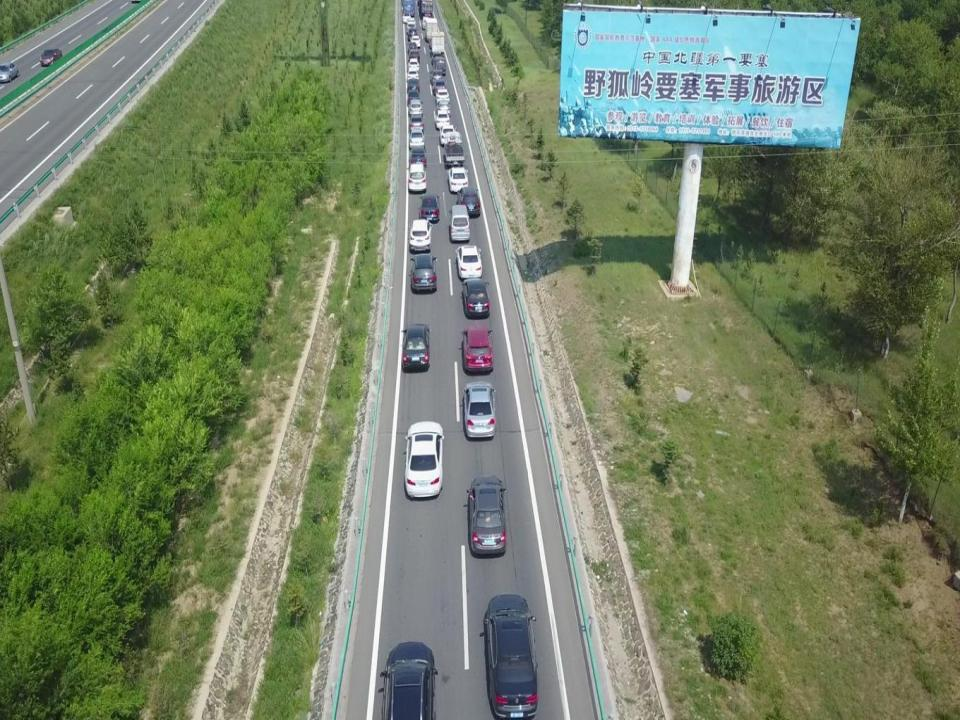bus: (402, 0, 416, 17)
car: (482, 593, 538, 707), (380, 642, 438, 709), (466, 474, 506, 556), (404, 421, 446, 498), (463, 380, 496, 440), (460, 324, 495, 373), (400, 323, 432, 369), (463, 277, 492, 318), (410, 253, 438, 293), (456, 244, 483, 280), (408, 219, 433, 253), (456, 187, 480, 218), (418, 192, 440, 221), (447, 166, 469, 193), (407, 163, 427, 192), (409, 144, 429, 168), (0, 60, 19, 83), (40, 48, 62, 67), (408, 129, 426, 150), (439, 124, 457, 144), (409, 113, 425, 133), (436, 99, 452, 118), (436, 109, 450, 130), (407, 99, 424, 116), (406, 88, 422, 104), (407, 57, 421, 74), (433, 79, 448, 94), (436, 88, 450, 104), (406, 78, 420, 93), (429, 70, 444, 84), (407, 67, 419, 83), (408, 49, 420, 62), (410, 35, 421, 48), (407, 42, 417, 54), (408, 28, 418, 40), (402, 12, 412, 24), (406, 17, 416, 28)
truck: (443, 130, 465, 166), (429, 31, 445, 57), (425, 17, 438, 42), (420, 0, 434, 19)
van: (448, 204, 470, 241), (433, 56, 447, 77), (422, 16, 431, 30), (406, 22, 416, 34)
